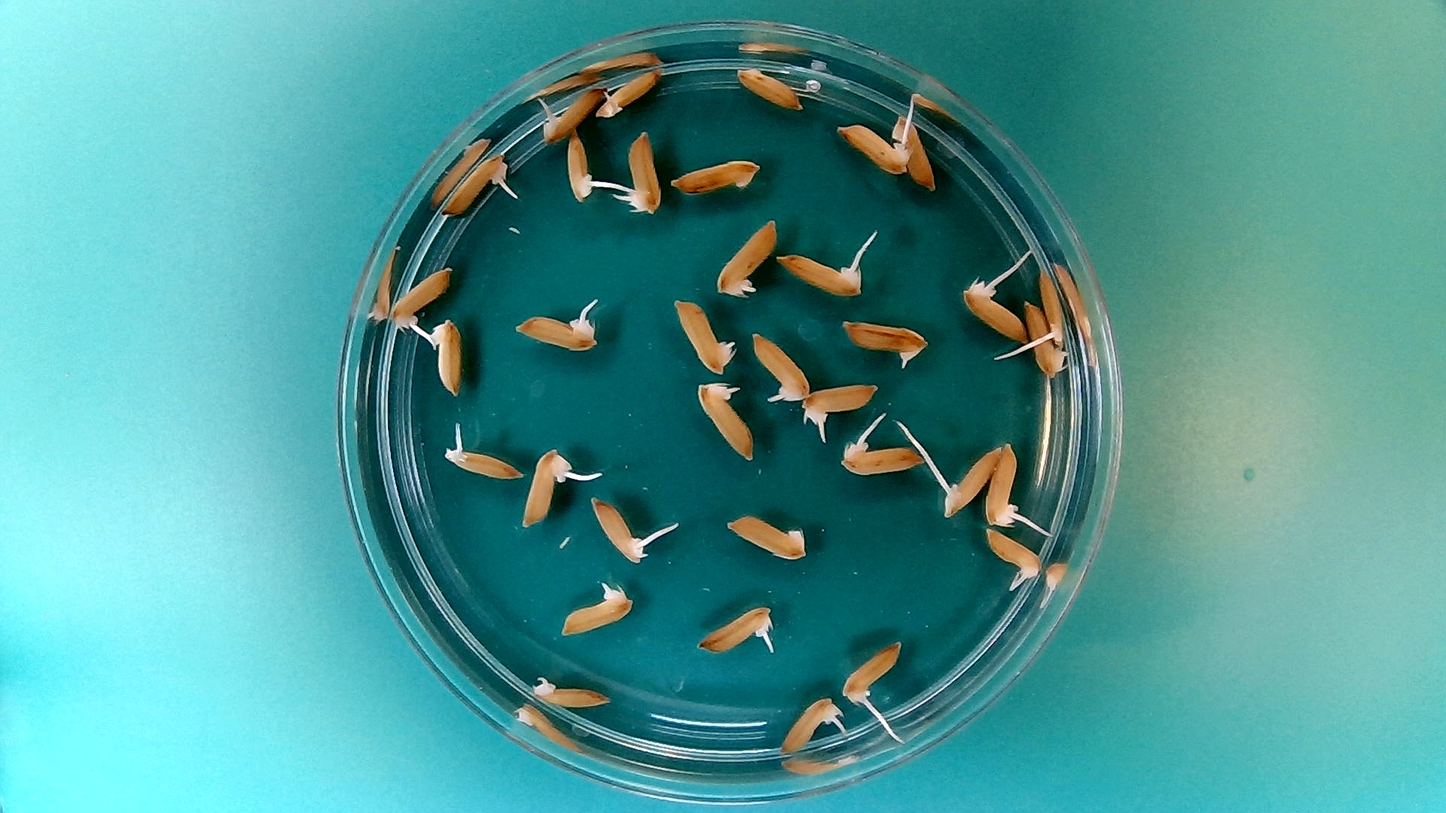no: (669, 294, 738, 374), (722, 510, 810, 562), (669, 158, 764, 196), (731, 62, 804, 111), (891, 114, 935, 193), (1023, 297, 1066, 376), (430, 314, 466, 398)
yes: (712, 213, 780, 300), (694, 378, 757, 465), (774, 249, 872, 298), (749, 328, 811, 405), (387, 263, 454, 333), (941, 443, 1002, 519), (840, 640, 905, 708), (840, 318, 928, 368), (694, 601, 772, 656), (778, 693, 846, 756), (518, 448, 569, 529), (963, 279, 1029, 341), (588, 499, 649, 566), (539, 83, 608, 142), (438, 156, 506, 215), (556, 587, 633, 638), (834, 125, 910, 175), (596, 65, 665, 120), (837, 434, 925, 477), (512, 314, 603, 352), (795, 385, 880, 424), (983, 526, 1044, 579), (984, 443, 1022, 528), (444, 443, 525, 482), (628, 130, 662, 215), (527, 678, 614, 711), (1039, 265, 1069, 352), (565, 132, 593, 203)
